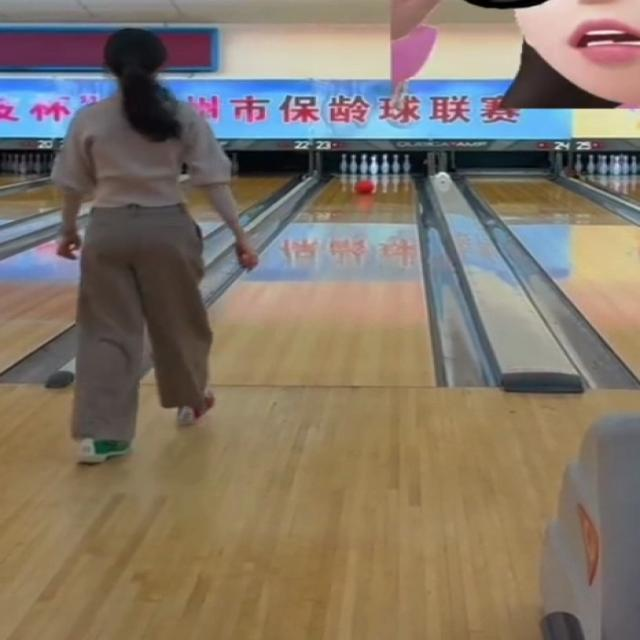alley: (214, 174, 431, 388)
balls: (357, 180, 375, 194)
bottle: (341, 153, 412, 178)
